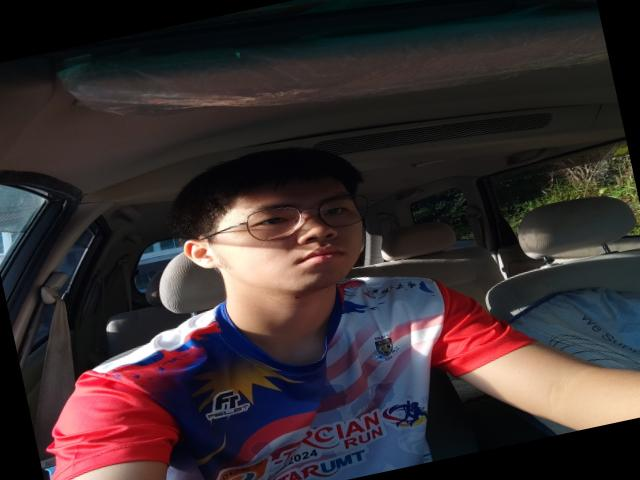eye_open: (245, 212, 296, 235), (322, 200, 356, 222)
face: (224, 179, 380, 302)
